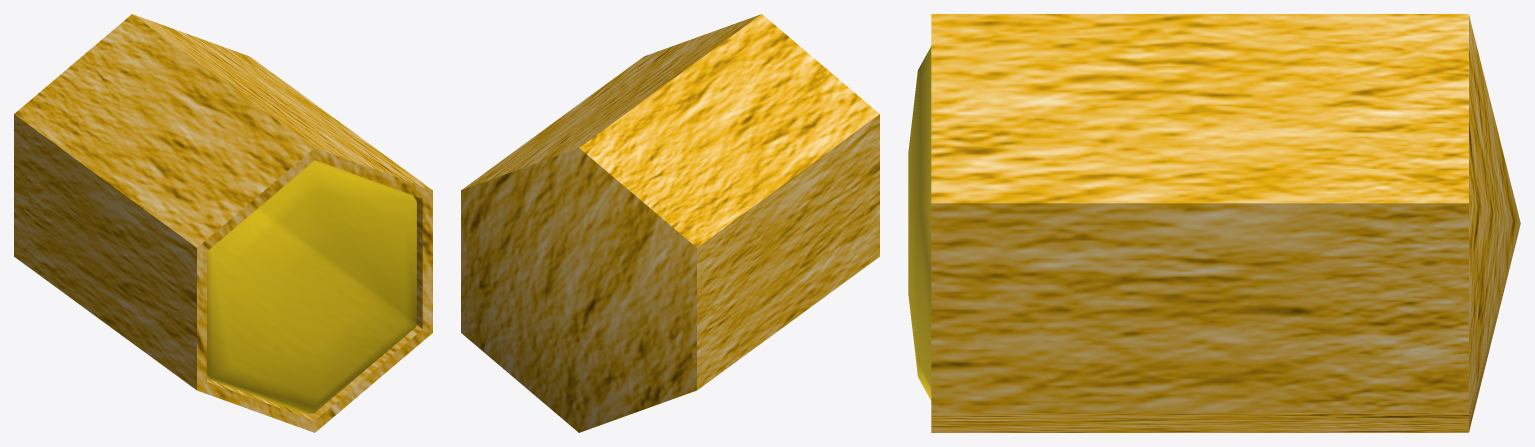
File: cellFull.fbx
The picture shows the model from 3 angles, left to right: view 1: azimuth 30°, elevation 25°; view 2: azimuth 150°, elevation 25°; view 3: azimuth 270°, elevation 25°; orthographic projection. The views are drawn at different scales.
Parts seen in each view (by area): view 1: Cylinder, Cylinder.001; view 2: Cylinder; view 3: Cylinder, Cylinder.001.
Boxes of the visible parts, box(x1,y1,x2,y2) form: Cylinder: box(14, 14, 432, 432); Cylinder.001: box(207, 160, 416, 414); Cylinder: box(461, 14, 879, 432); Cylinder: box(931, 14, 1520, 432); Cylinder.001: box(908, 46, 931, 400).
Bounding box in the file's own units: 189 × 219 × 290.
